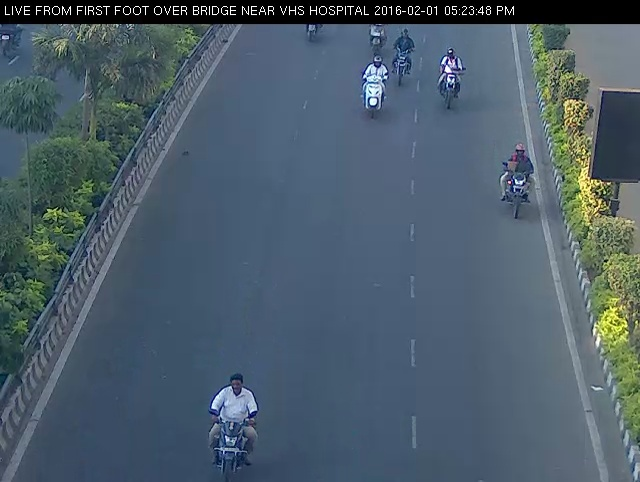Person: (204, 358, 264, 482), (489, 136, 544, 229), (359, 51, 392, 124), (434, 47, 469, 115), (389, 23, 418, 93), (360, 11, 395, 50)
